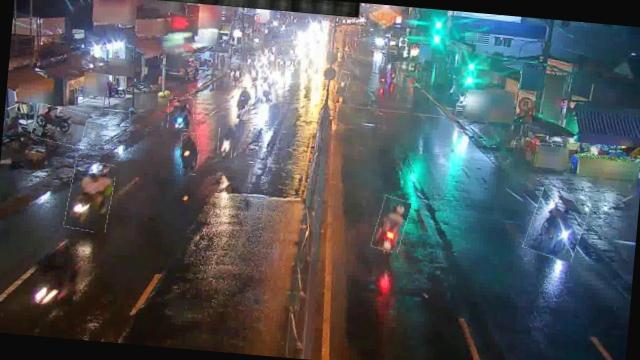Bike: (525, 188, 589, 262), (66, 159, 116, 233), (32, 104, 88, 146), (373, 196, 410, 253), (167, 96, 196, 130), (179, 133, 200, 176), (257, 74, 278, 105), (233, 86, 252, 120), (216, 126, 234, 159), (247, 62, 261, 86), (337, 71, 350, 96), (377, 64, 390, 88), (230, 62, 243, 86), (388, 62, 401, 82)
